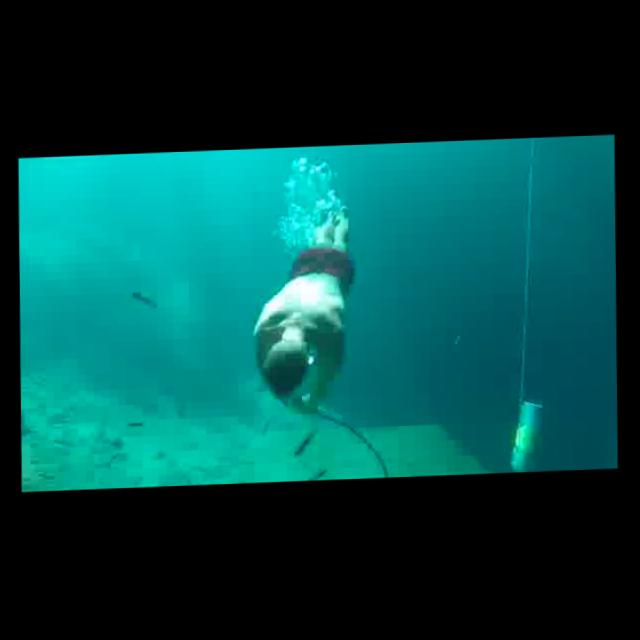human: (242, 191, 370, 434)
